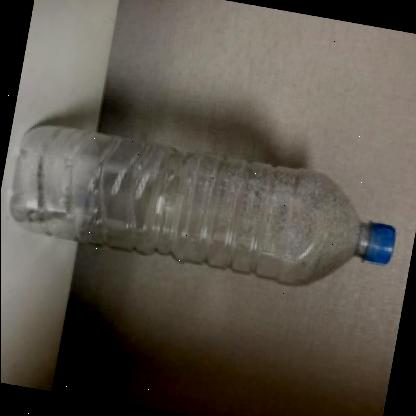Plastic Bottle: (9, 127, 395, 286)
